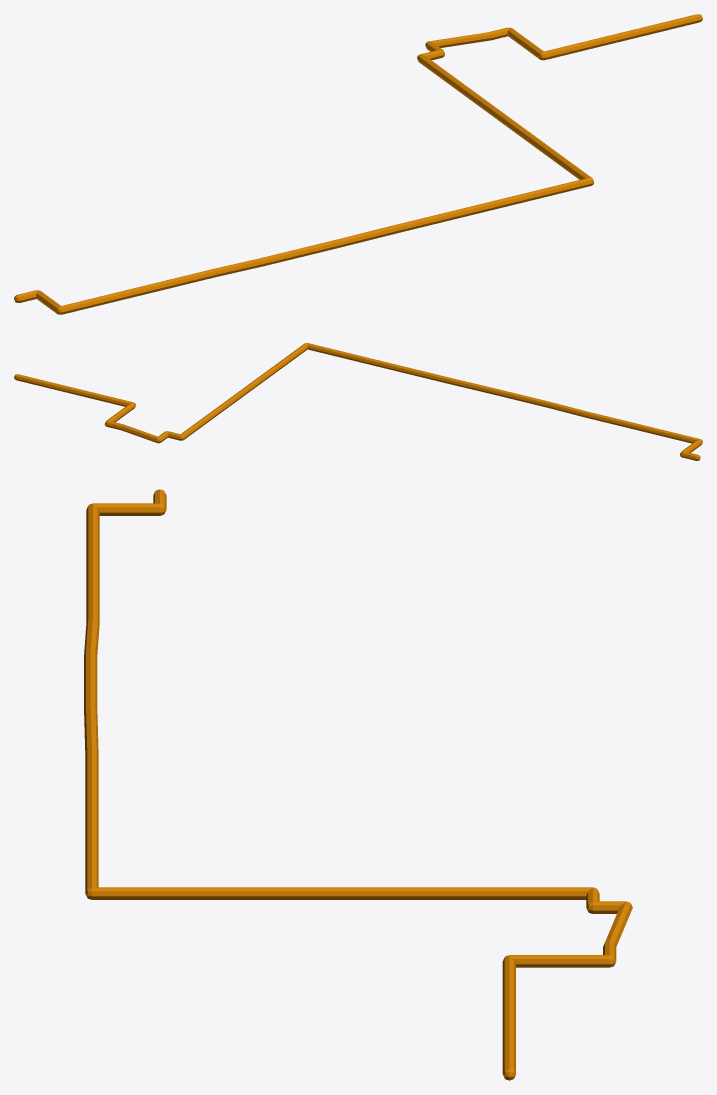
3 renders of one model, top to bottom at view 1: azimuth 30°, elevation 25°; view 2: azimuth 150°, elevation 25°; view 3: azimuth 270°, elevation 25°, orthographic. The views are drawn at different scales.
Bounding box in the file's own units: 2070 × 20 × 822.
